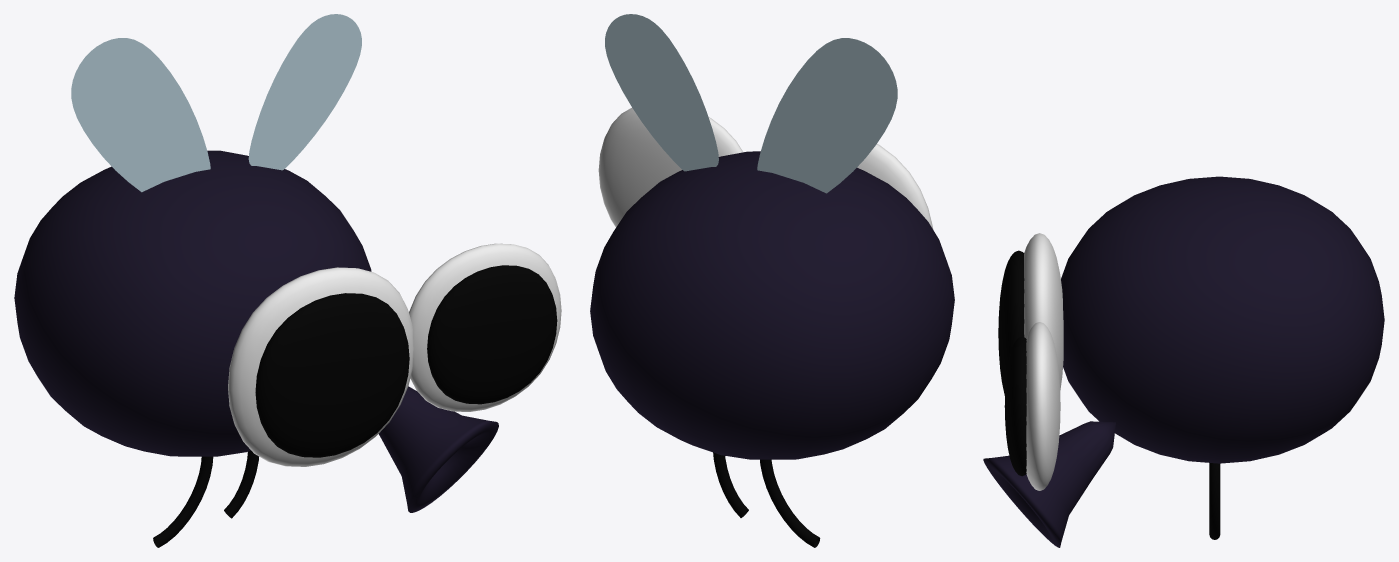
Rendered from newfly.fbx.
The picture shows the model from 3 angles, left to right: view 1: azimuth 30°, elevation 25°; view 2: azimuth 150°, elevation 25°; view 3: azimuth 270°, elevation 25°; orthographic projection. The views are drawn at different scales.
Visible parts, largest first — view 1: body, eye black, eye black.001, wing, wing.001, eye white, snozz, eye white.001, leg, leg.001; view 2: body, wing, wing.001, eye white.001, eye white, leg, leg.001; view 3: body, snozz, eye white.001, eye white, eye black.001, eye black, leg.001.
Boxes of the visible parts, x1=… form: body: x1=14, y1=150, x2=371, y2=456; eye black: x1=255, y1=293, x2=409, y2=457; eye black.001: x1=427, y1=265, x2=557, y2=404; wing: x1=71, y1=38, x2=210, y2=192; wing.001: x1=248, y1=14, x2=361, y2=170; eye white: x1=228, y1=267, x2=413, y2=466; snozz: x1=379, y1=386, x2=498, y2=512; eye white.001: x1=409, y1=243, x2=561, y2=411; leg: x1=153, y1=456, x2=213, y2=547; leg.001: x1=224, y1=450, x2=258, y2=518; body: x1=590, y1=151, x2=954, y2=459; wing: x1=757, y1=38, x2=897, y2=193; wing.001: x1=605, y1=14, x2=718, y2=171; eye white.001: x1=598, y1=108, x2=742, y2=227; eye white: x1=857, y1=144, x2=933, y2=229; leg: x1=760, y1=459, x2=820, y2=547; leg.001: x1=713, y1=452, x2=748, y2=517; body: x1=1061, y1=176, x2=1384, y2=463; snozz: x1=983, y1=421, x2=1115, y2=547; eye white.001: x1=1026, y1=322, x2=1060, y2=490; eye white: x1=1024, y1=233, x2=1063, y2=389; eye black.001: x1=1004, y1=336, x2=1026, y2=476; eye black: x1=998, y1=250, x2=1024, y2=395; leg.001: x1=1209, y1=463, x2=1220, y2=539.
Bounding box in the file's own units: 69.11 × 80.83 × 61.19.
